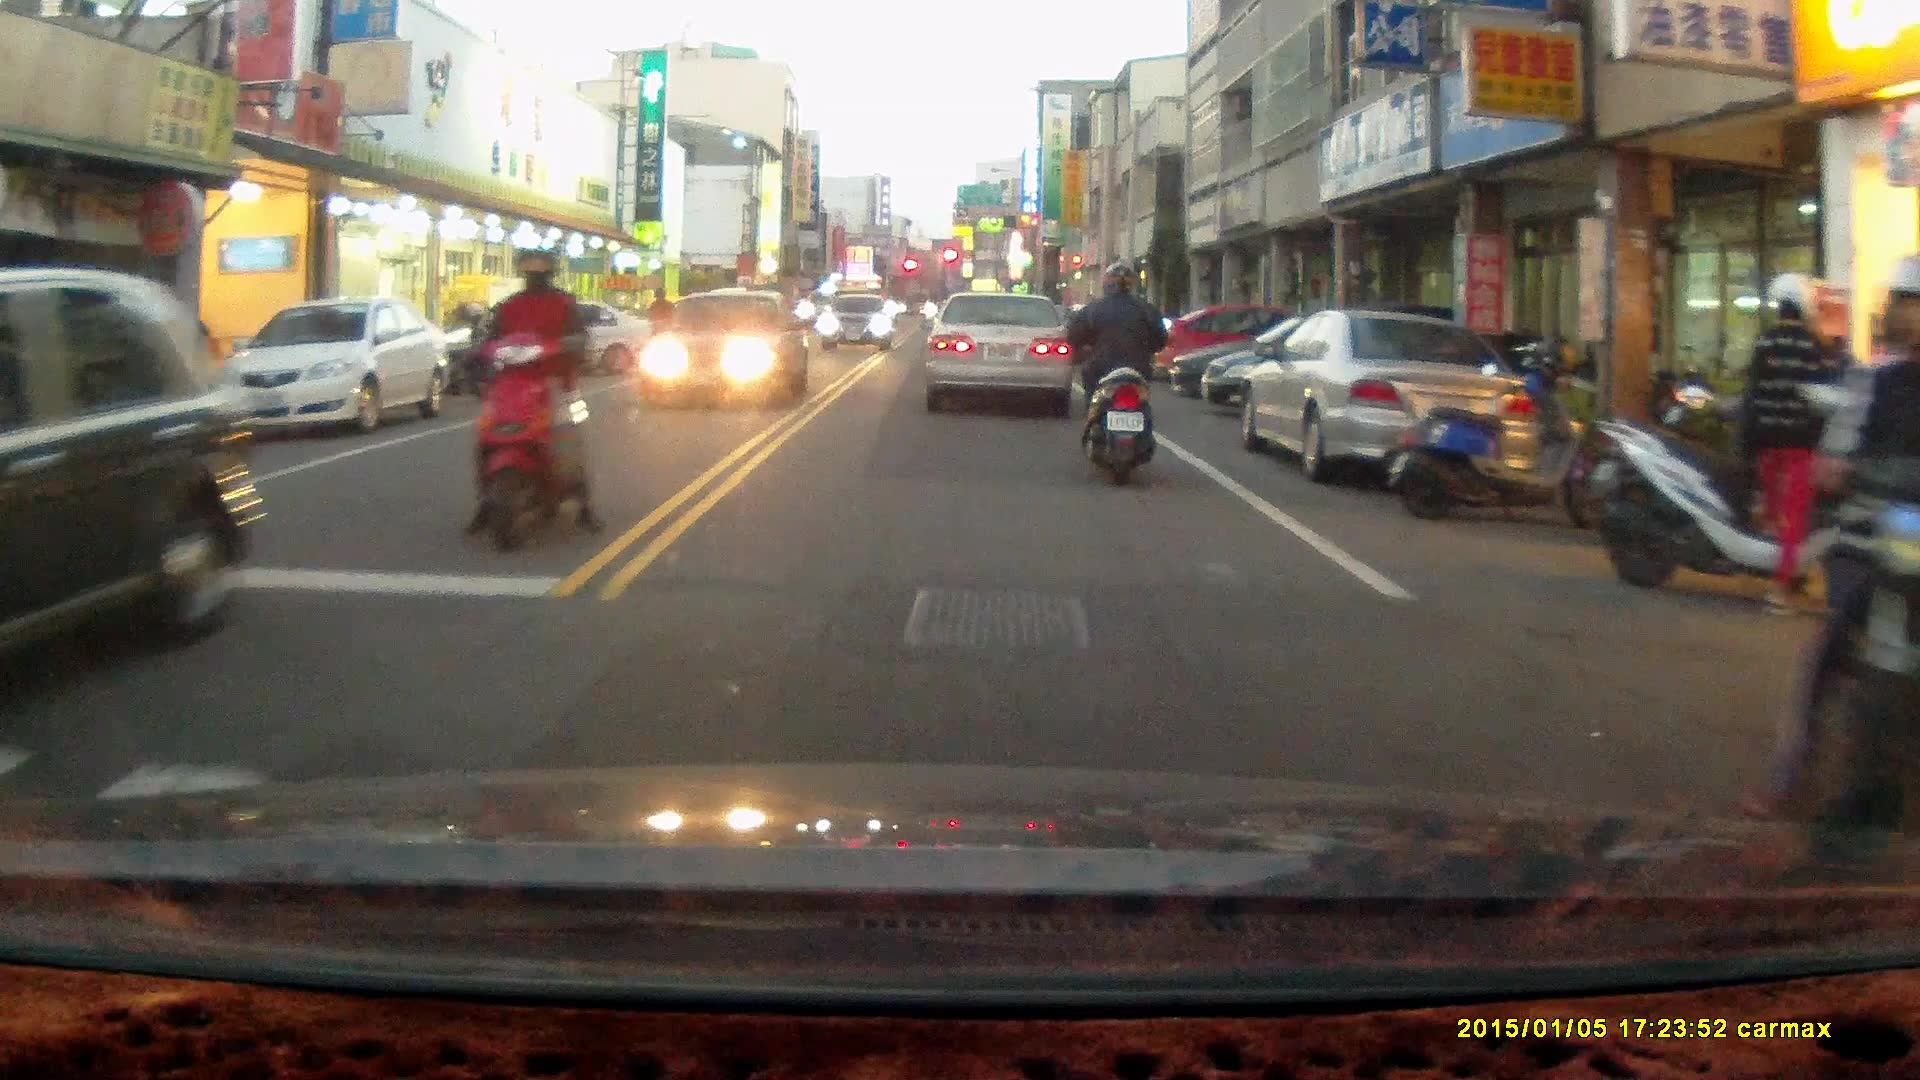pedestrian: (1743, 267, 1841, 615), (643, 284, 674, 354)
rider: (1769, 277, 1920, 853), (452, 244, 604, 549), (1061, 254, 1173, 479)
vehicle: (1, 268, 272, 695), (1233, 305, 1541, 485), (212, 291, 458, 436), (641, 283, 808, 406), (921, 289, 1076, 415), (1147, 294, 1366, 380), (816, 286, 894, 346)
